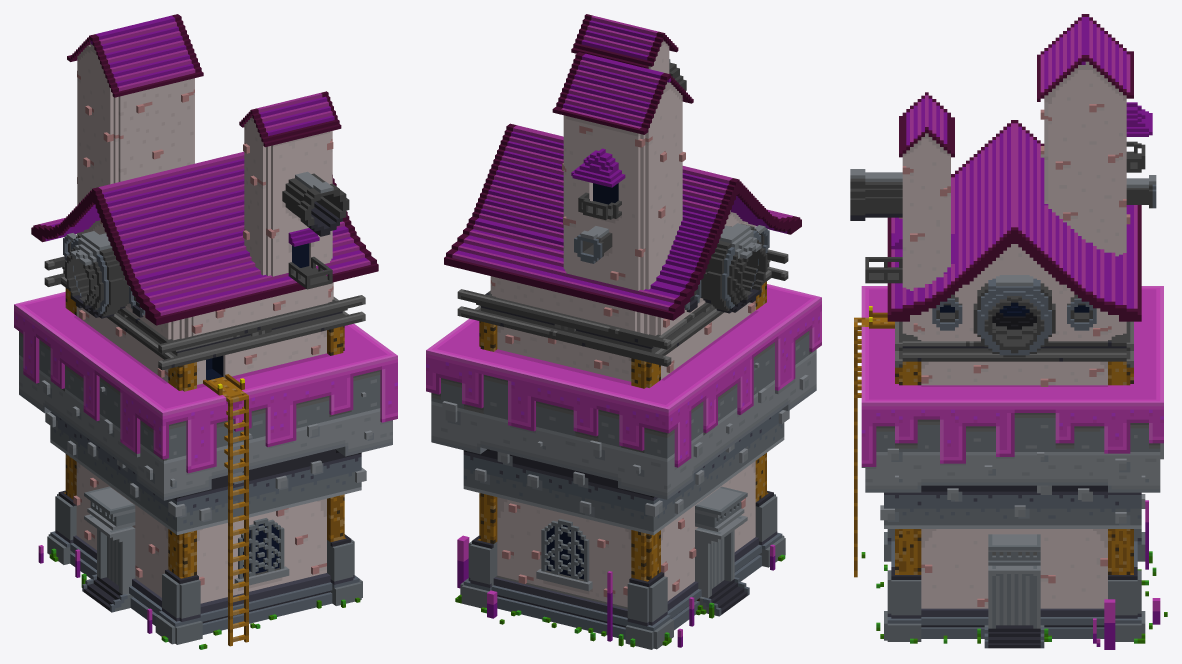
The model's file is Torre de area.obj.
3 views of the same model, side by side, from view 1: azimuth 30°, elevation 25°; view 2: azimuth 150°, elevation 25°; view 3: azimuth 270°, elevation 25° (orthographic). The views are drawn at different scales.
Size of the model in its own units: 8 by 16 by 8.5.
Materials: 1 (1 with a texture image).
